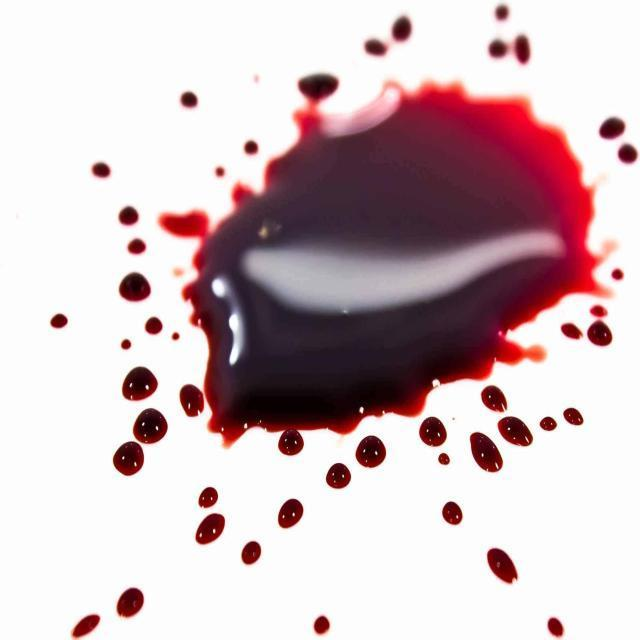flood: (189, 69, 640, 474)
